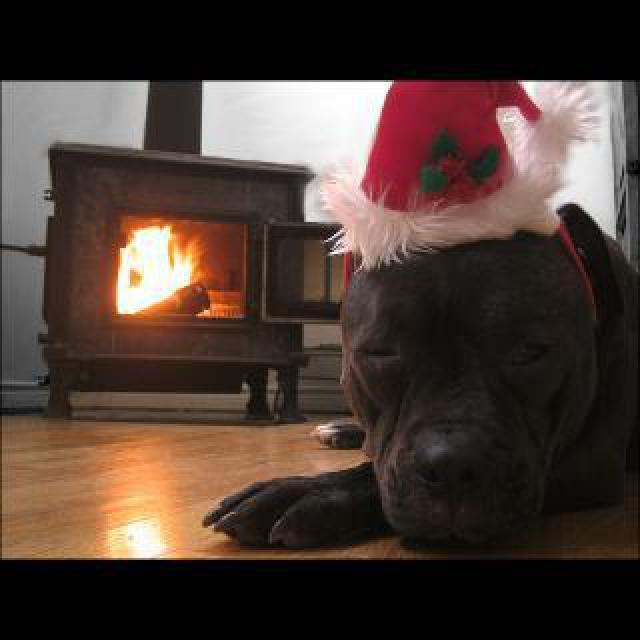Fire: (106, 212, 222, 312)
